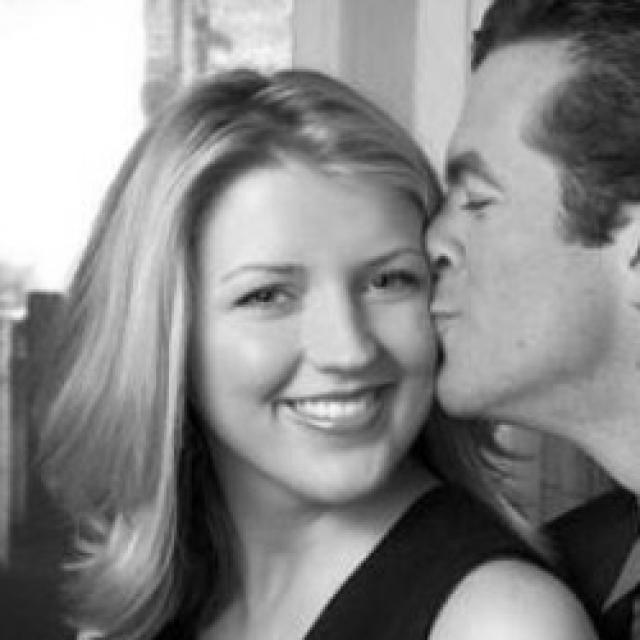real: (176, 160, 446, 518), (442, 22, 630, 414), (218, 248, 435, 315)
